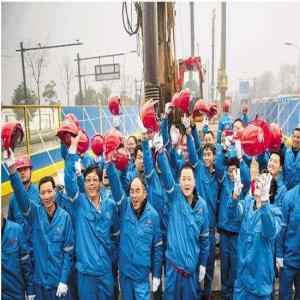none: (254, 170, 277, 207), (38, 177, 59, 214), (84, 163, 103, 201), (178, 164, 198, 200), (129, 176, 148, 212), (267, 149, 285, 178), (202, 142, 218, 171), (134, 144, 148, 172), (227, 156, 241, 183), (233, 117, 245, 136), (291, 127, 300, 151), (127, 136, 138, 155), (205, 131, 217, 147)
red: (14, 154, 33, 190), (180, 133, 196, 165), (153, 145, 170, 175), (223, 101, 231, 116), (242, 104, 249, 117)
